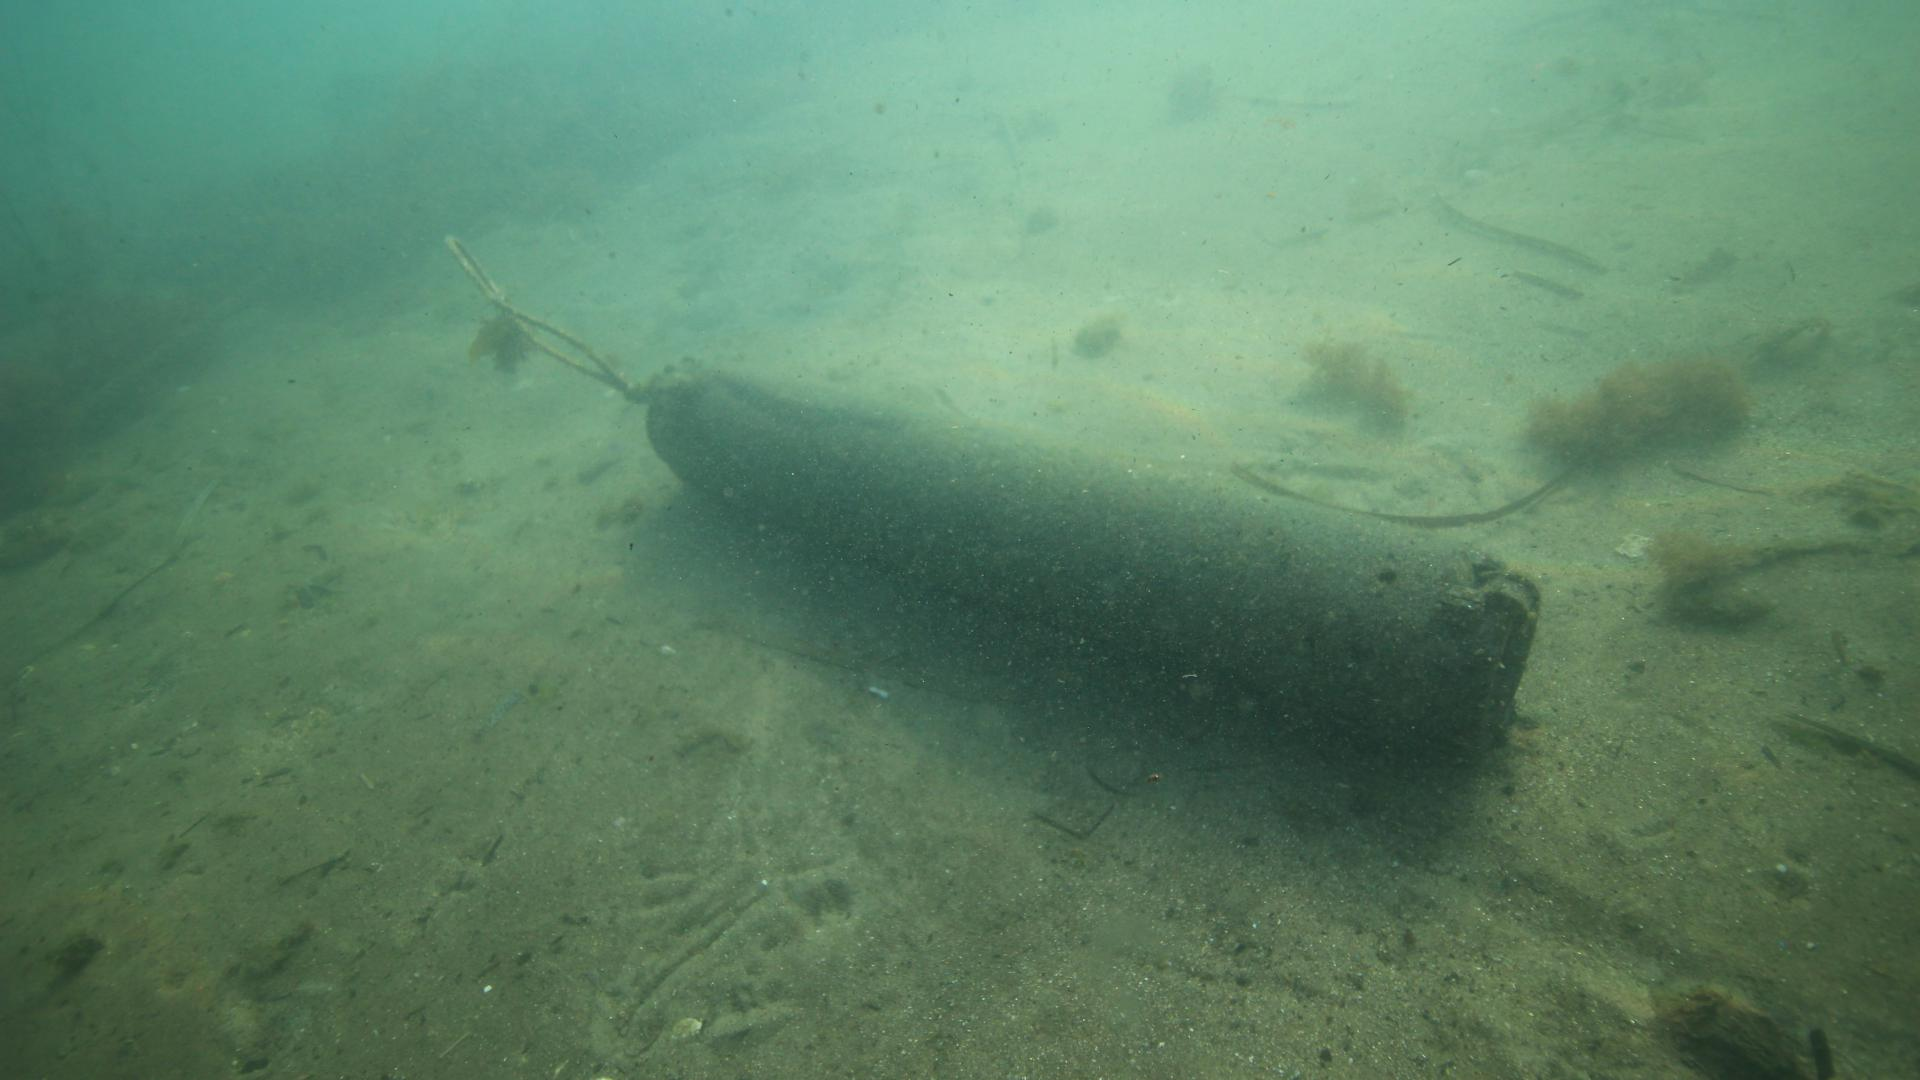bundle of ropes: (430, 218, 634, 400)
eel fish trap: (640, 338, 1532, 725)
